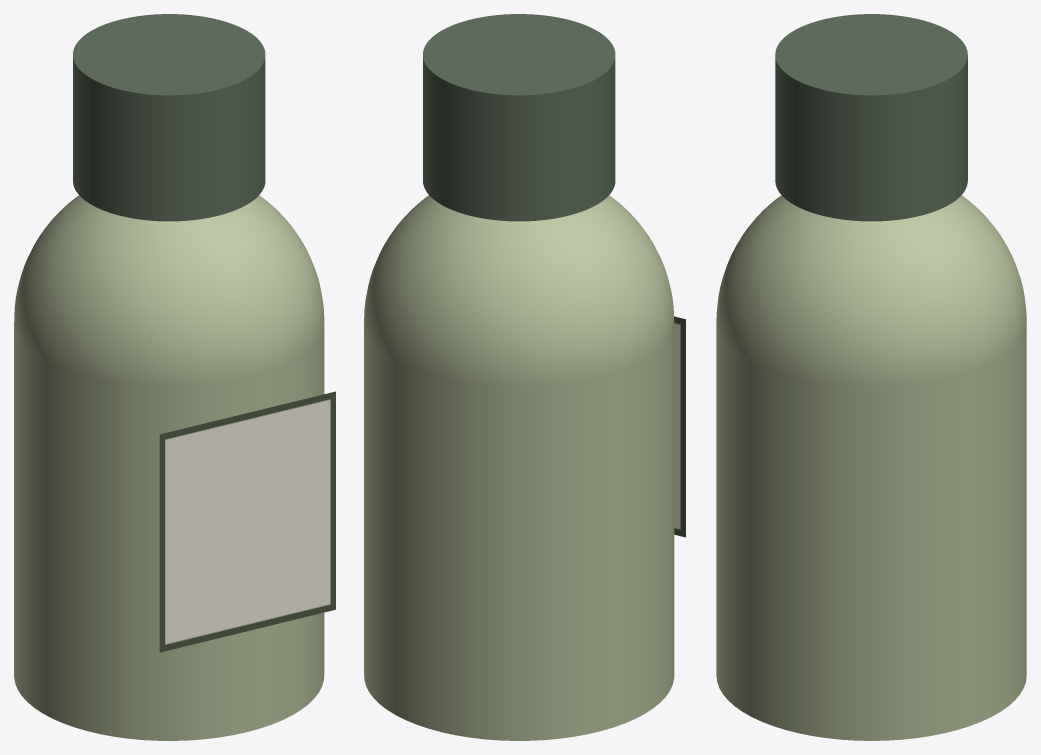
File: sample.glb
The picture shows the model from 3 angles, left to right: view 1: azimuth 30°, elevation 25°; view 2: azimuth 150°, elevation 25°; view 3: azimuth 270°, elevation 25°; orthographic projection.
Visible parts, largest first — view 1: Body, Shoulder, Label, Cap; view 2: Body, Shoulder, Cap, Label; view 3: Body, Shoulder, Cap.
Boxes of the visible parts, x1,y1,x2,y2 form: Body: [14, 323, 324, 740]; Shoulder: [14, 195, 324, 386]; Label: [159, 391, 335, 652]; Cap: [73, 14, 265, 221]; Body: [364, 321, 674, 740]; Shoulder: [364, 195, 674, 386]; Cap: [423, 14, 615, 221]; Label: [674, 316, 685, 537]; Body: [716, 322, 1026, 740]; Shoulder: [716, 195, 1026, 386]; Cap: [775, 14, 967, 221].
Bounding box in the file's own units: 0.058 × 0.128 × 0.0584.
3 materials, 1 textured.
